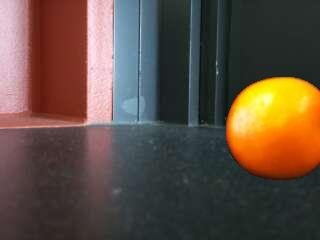Orange: (224, 75, 320, 181)
